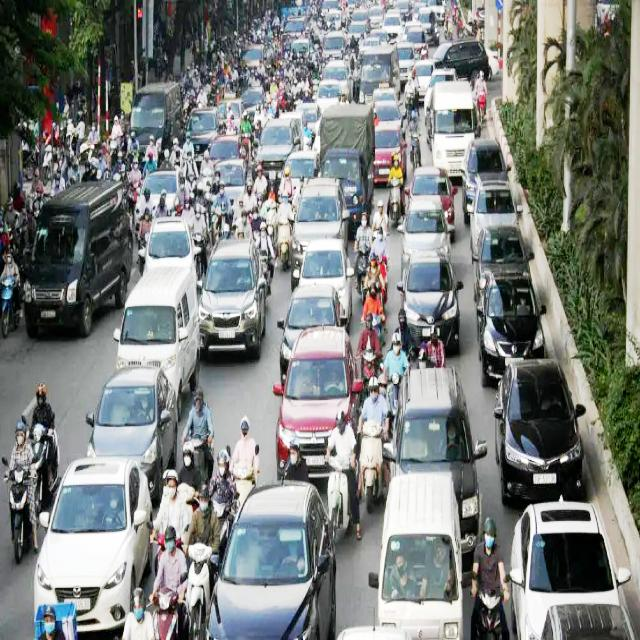Car: (33, 455, 153, 638), (205, 479, 337, 639), (382, 365, 488, 554), (509, 497, 633, 639), (368, 471, 463, 639), (112, 263, 201, 421), (494, 357, 586, 506), (85, 362, 178, 507), (27, 184, 126, 318), (277, 331, 361, 461), (198, 239, 268, 359), (476, 268, 546, 386), (396, 249, 464, 356), (290, 175, 350, 289), (276, 282, 342, 382), (296, 237, 354, 327), (473, 223, 530, 307), (400, 193, 452, 280), (320, 106, 373, 188), (469, 178, 519, 262), (460, 137, 508, 222), (138, 216, 198, 284), (405, 166, 457, 236), (134, 169, 182, 240), (252, 118, 304, 183), (430, 87, 473, 164), (134, 79, 177, 145), (372, 123, 408, 187), (439, 37, 485, 78), (185, 108, 221, 155), (361, 46, 394, 92), (336, 624, 412, 639), (316, 78, 347, 112), (220, 162, 246, 202), (414, 60, 436, 94), (323, 31, 348, 60), (384, 10, 403, 39), (246, 46, 266, 70), (293, 37, 309, 54)
